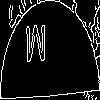M: (25, 24, 47, 71)
